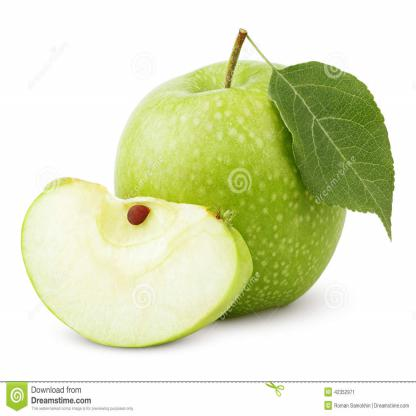Apple leaf: (262, 55, 403, 246)
